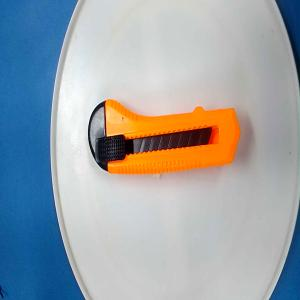estilete: (88, 99, 241, 176)
